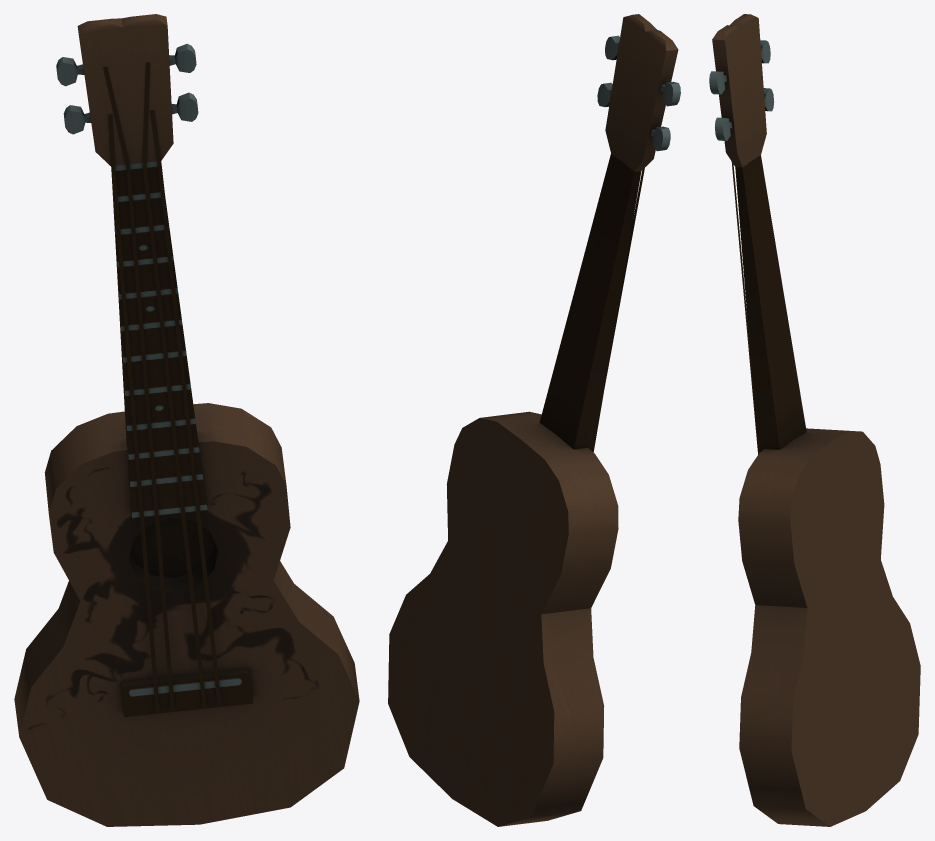
Rendered from mdlUkulele.fbx.
The picture shows the model from 3 angles, left to right: view 1: azimuth 30°, elevation 25°; view 2: azimuth 150°, elevation 25°; view 3: azimuth 270°, elevation 25°; orthographic projection. The views are drawn at different scales.
Parts seen in each view (by area): view 1: mdlUkulele; view 2: mdlUkulele; view 3: mdlUkulele.
Boxes of the visible parts, bbox=[...] form: mdlUkulele: bbox=[14, 14, 359, 826]; mdlUkulele: bbox=[388, 14, 680, 826]; mdlUkulele: bbox=[709, 14, 920, 826].
Size of the model in its own units: 0.3166 by 0.8376 by 0.2179.
Materials: 1 (1 with a texture image).
